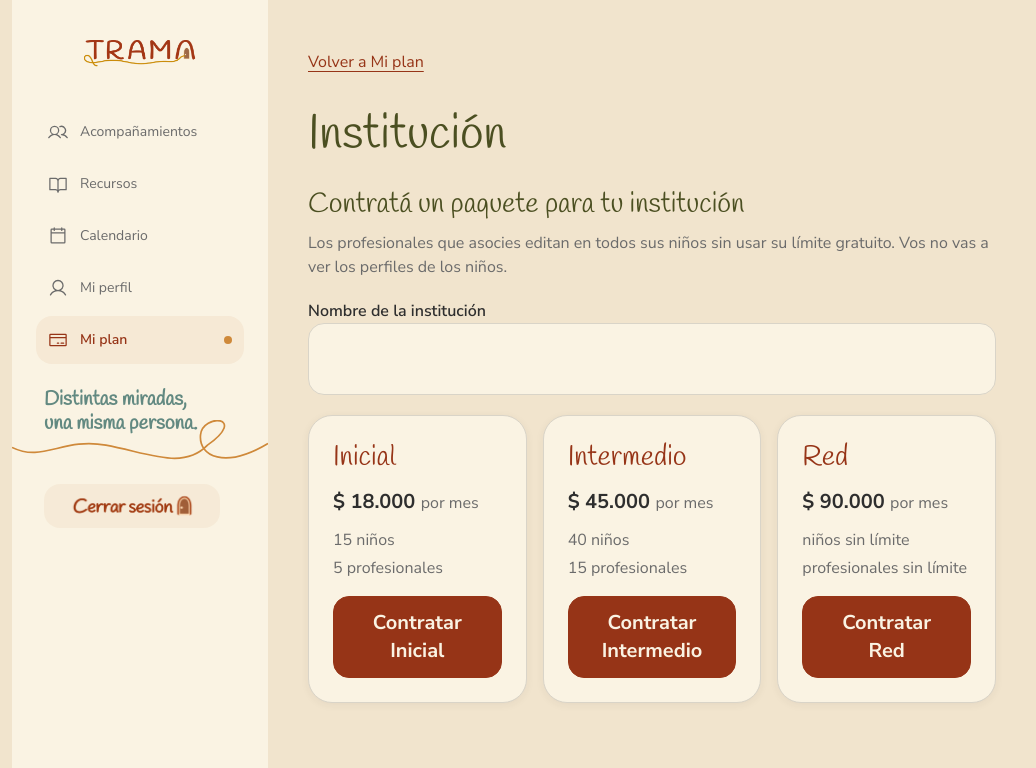
Scenario: 9.2: paquete institucional › pide el nombre antes de pasar al pago
Click the button "Contratar Inicial" at (417, 637), box [333, 596, 502, 678]
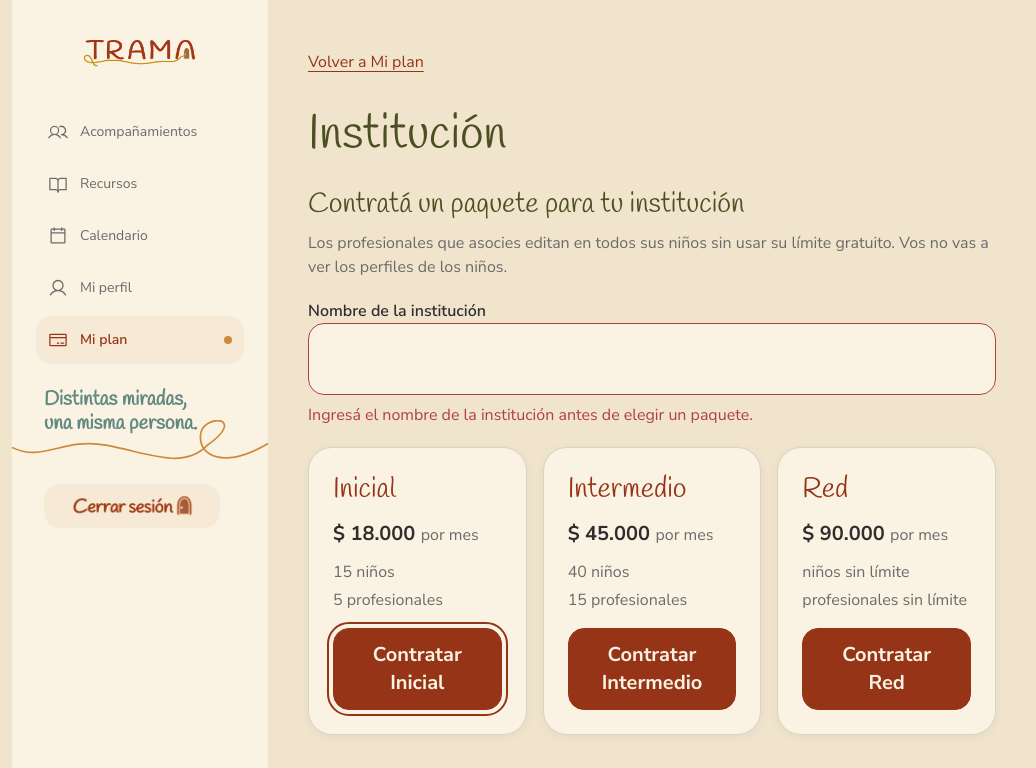
Check: the message shows "Ingresá el nombre de la institución", box [308, 404, 753, 426]
